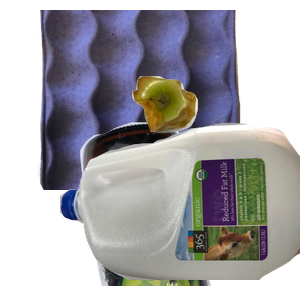glass: (78, 120, 281, 300)
paper: (35, 10, 268, 190)
plastic: (60, 120, 300, 300)
trash: (130, 74, 300, 199)
